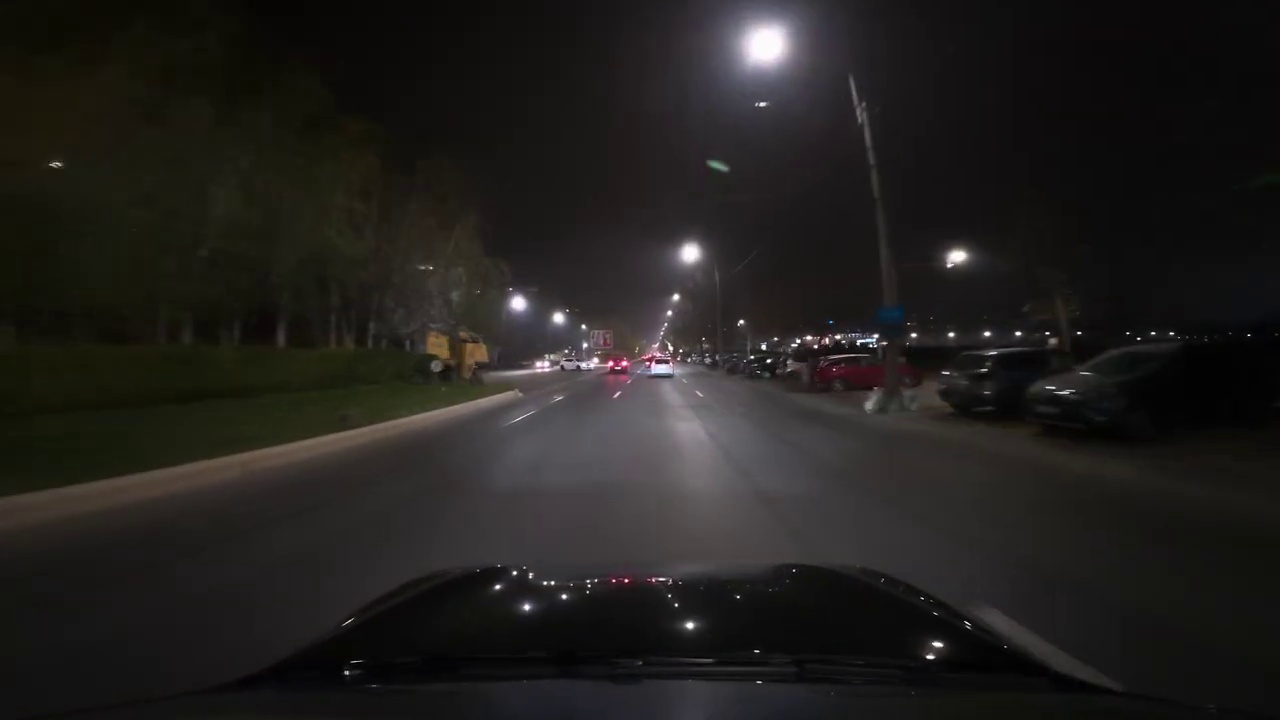acesa: (746, 27, 785, 61), (676, 240, 703, 267), (943, 244, 971, 270), (506, 291, 531, 317)
